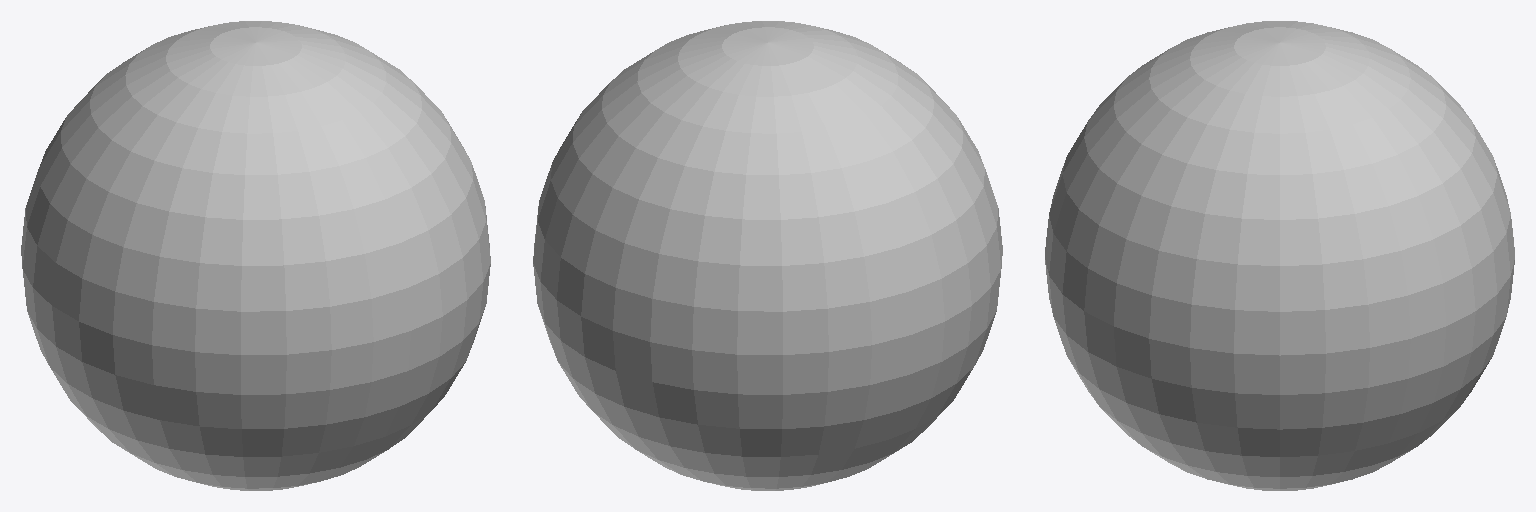
The model's file is venus.obj.
3 renders of one model, left to right at view 1: azimuth 30°, elevation 25°; view 2: azimuth 150°, elevation 25°; view 3: azimuth 270°, elevation 25°, orthographic.
Parts seen in each view (by area): view 1: Venus; view 2: Venus; view 3: Venus.
Part boxes in pixels (x1,y1,x2,y2): Venus: (21, 21, 490, 490); Venus: (533, 21, 1002, 490); Venus: (1045, 21, 1514, 490).
Bounding box in the file's own units: 2 × 2 × 2.